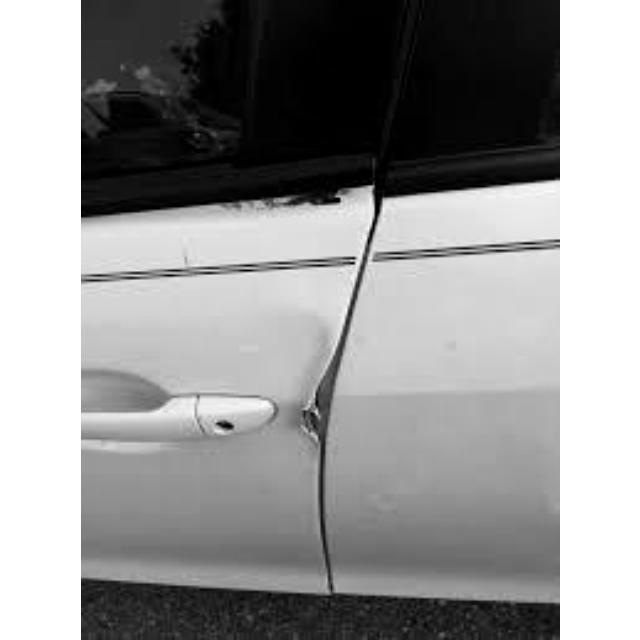doorouter-dent: (110, 210, 342, 484)
